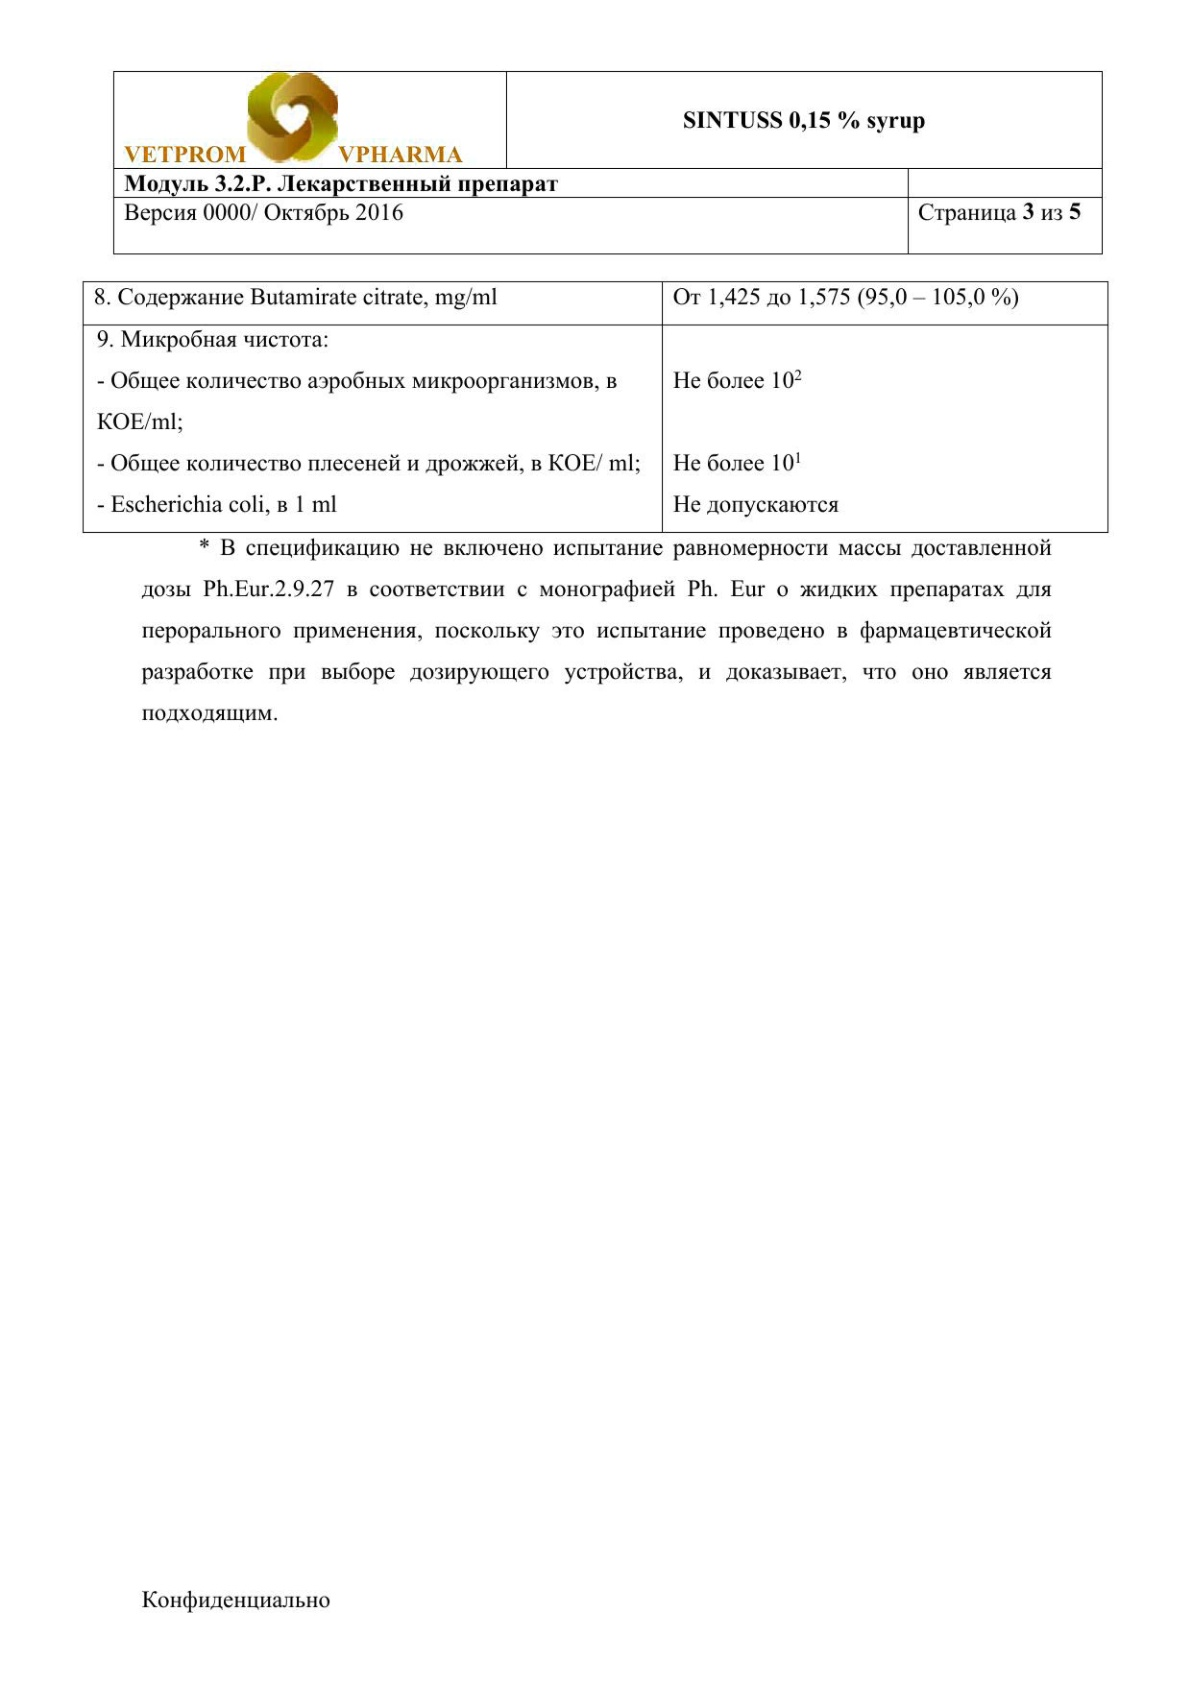full_lined: (81, 280, 1111, 535)
merged_cells: (112, 68, 1106, 255)
